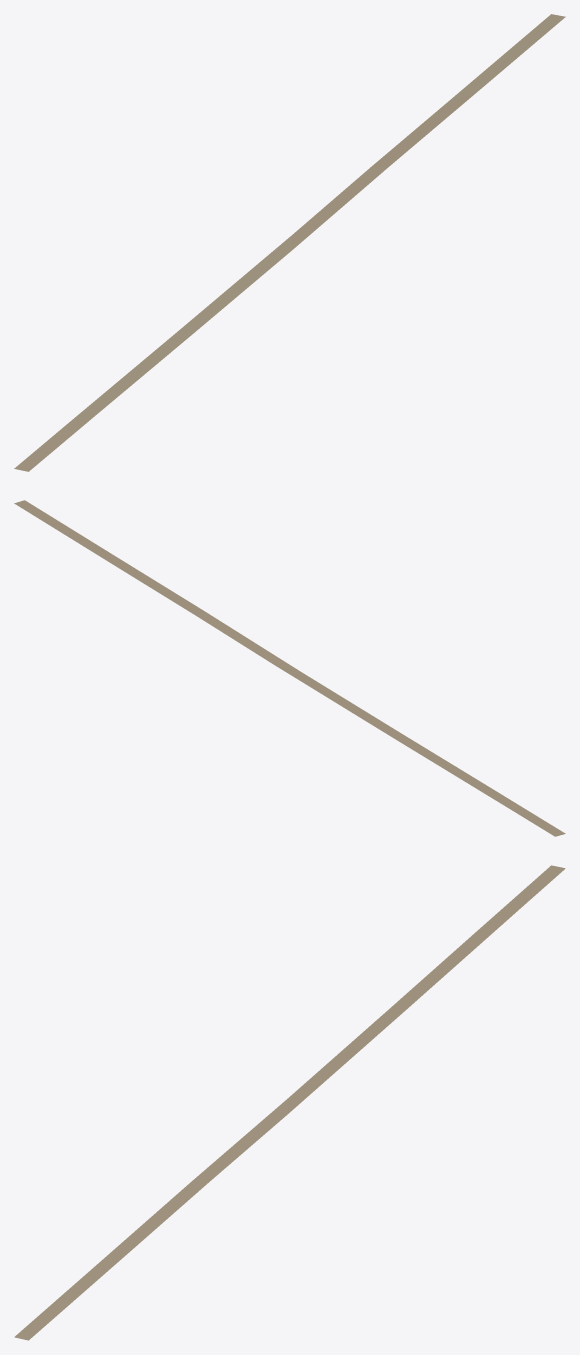
Rendered from farm_3_10_track.glb.
3 renders of one model, top to bottom at view 1: azimuth 90°, elevation 25°; view 2: azimuth 150°, elevation 25°; view 3: azimuth 270°, elevation 25°, orthographic. The views are drawn at different scales.
Visible parts, largest first — view 1: geometry_0; view 2: geometry_0; view 3: geometry_0.
Part boxes in pixels (x1=…): geometry_0: x1=14, y1=14, x2=565, y2=471; geometry_0: x1=14, y1=500, x2=565, y2=836; geometry_0: x1=14, y1=865, x2=565, y2=1340.
Bounding box in the file's own units: 222 × 1.94 × 111.
